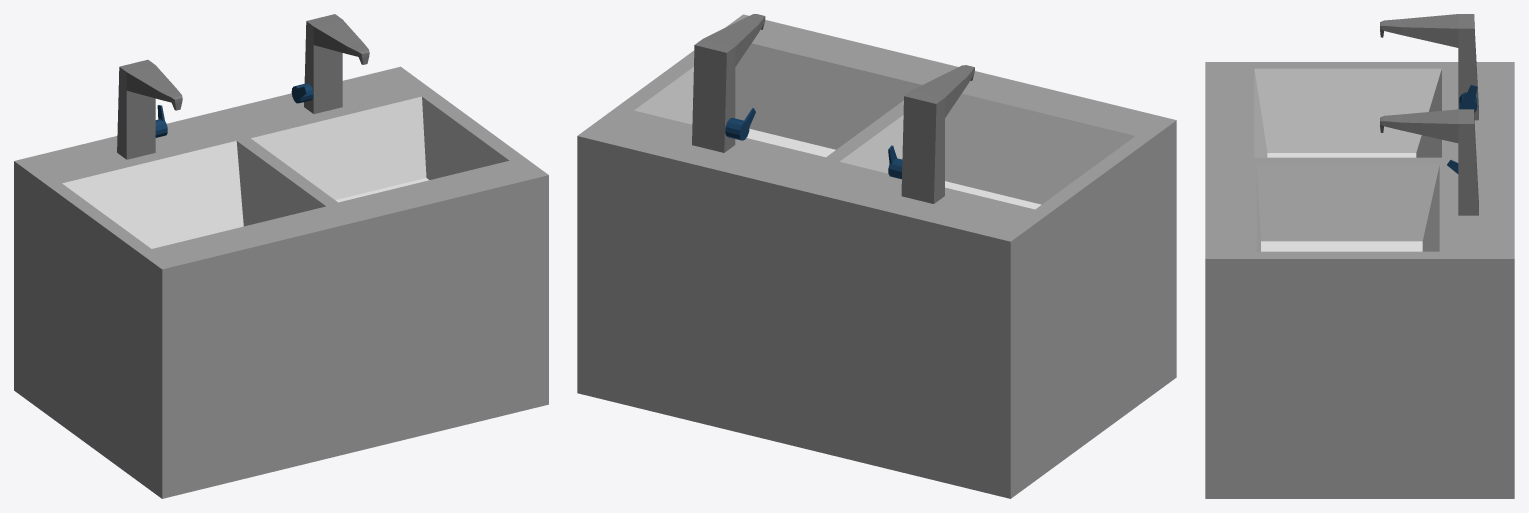
Rendered from Dual_sink.fbx.
3 views of the same model, side by side, from view 1: azimuth 30°, elevation 25°; view 2: azimuth 150°, elevation 25°; view 3: azimuth 270°, elevation 25° (orthographic). The views are drawn at different scales.
Visible parts, largest first — view 1: Kitchen_sink:pCube6; view 2: Kitchen_sink:pCube6; view 3: Kitchen_sink:pCube6.
Boxes of the visible parts, box(x1,y1,x2,y2) form: Kitchen_sink:pCube6: box(14, 14, 548, 498); Kitchen_sink:pCube6: box(577, 14, 1176, 498); Kitchen_sink:pCube6: box(1205, 14, 1514, 498).
Bounding box in the file's own units: 57.48 × 45.04 × 38.13.
